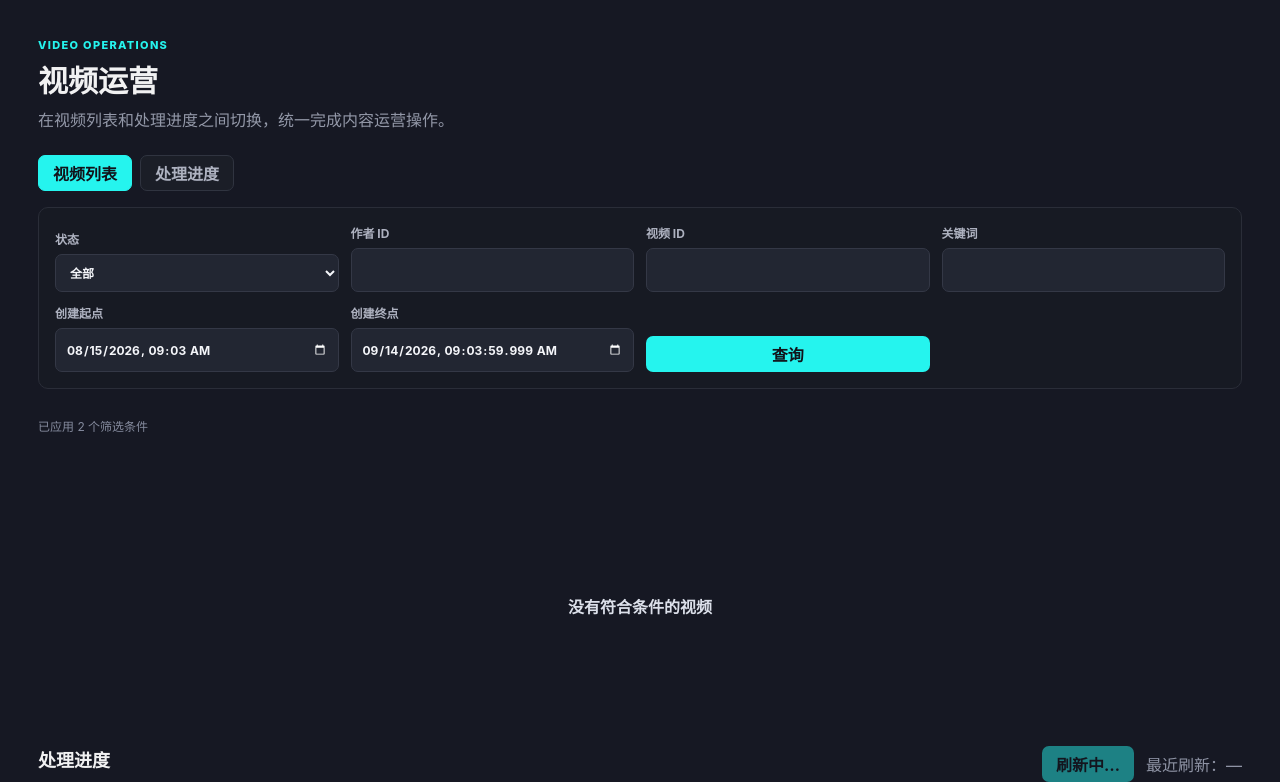
Test case: video operations processing view › renders plain-language processing labels, diagnostics, and single retry
The width and height of the screenshot is (1280, 782).
Click the tab "处理进度" at (187, 173), box [140,155,234,191]
(page scrolled)
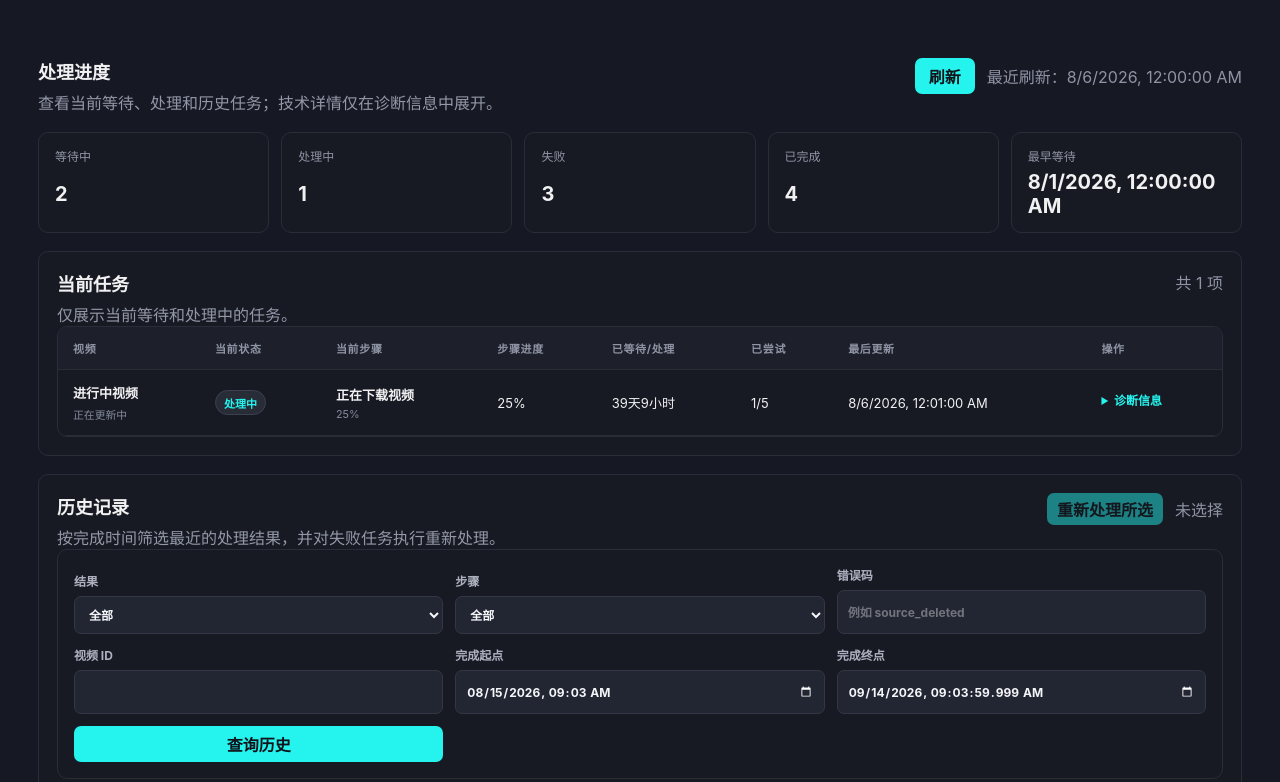
Expected: the element named "处理进度" shows "正在下载视频", [336,386,414,402]
Expected: the element showing "诊断信息" is shown
Expected: the heading "诊断信息" is shown
Click the heading "诊断信息" at (1138, 400), box [1114,393,1162,408]
(page scrolled)
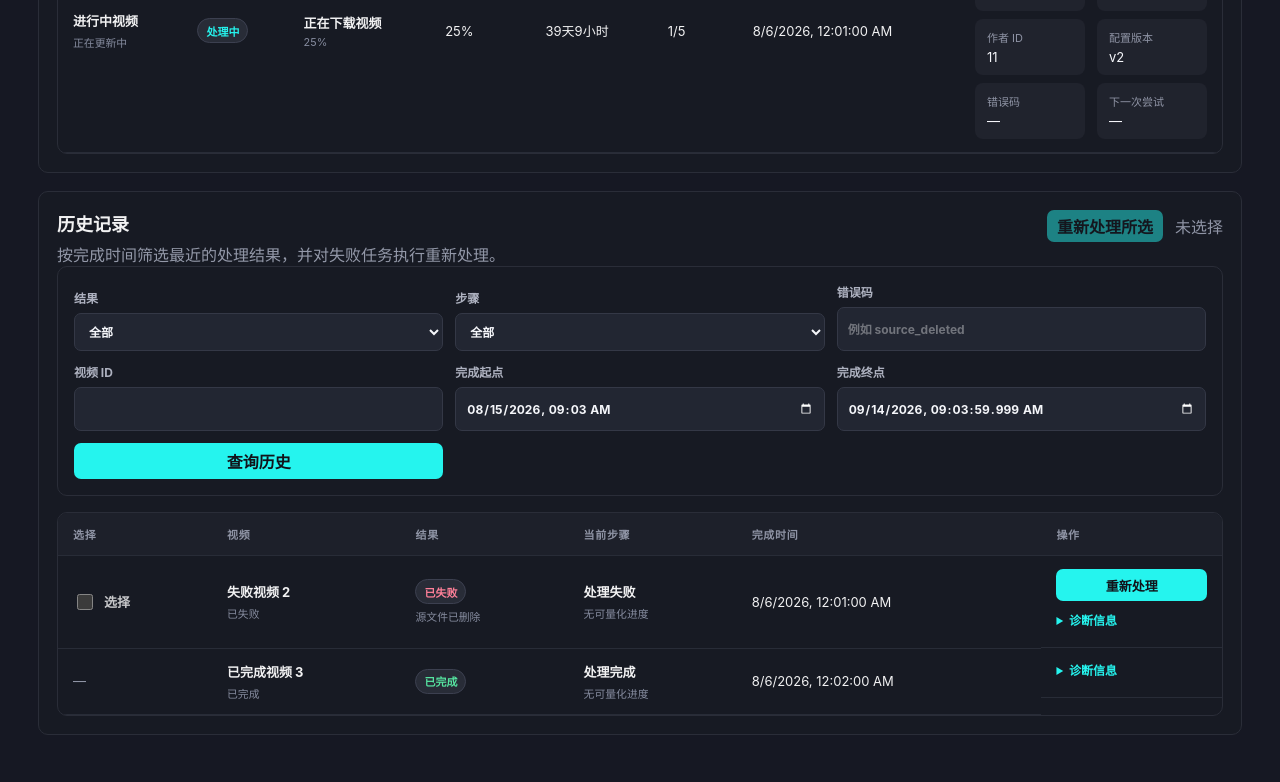
Click the button "重新处理" at (1132, 585), box [1056,569,1207,601]
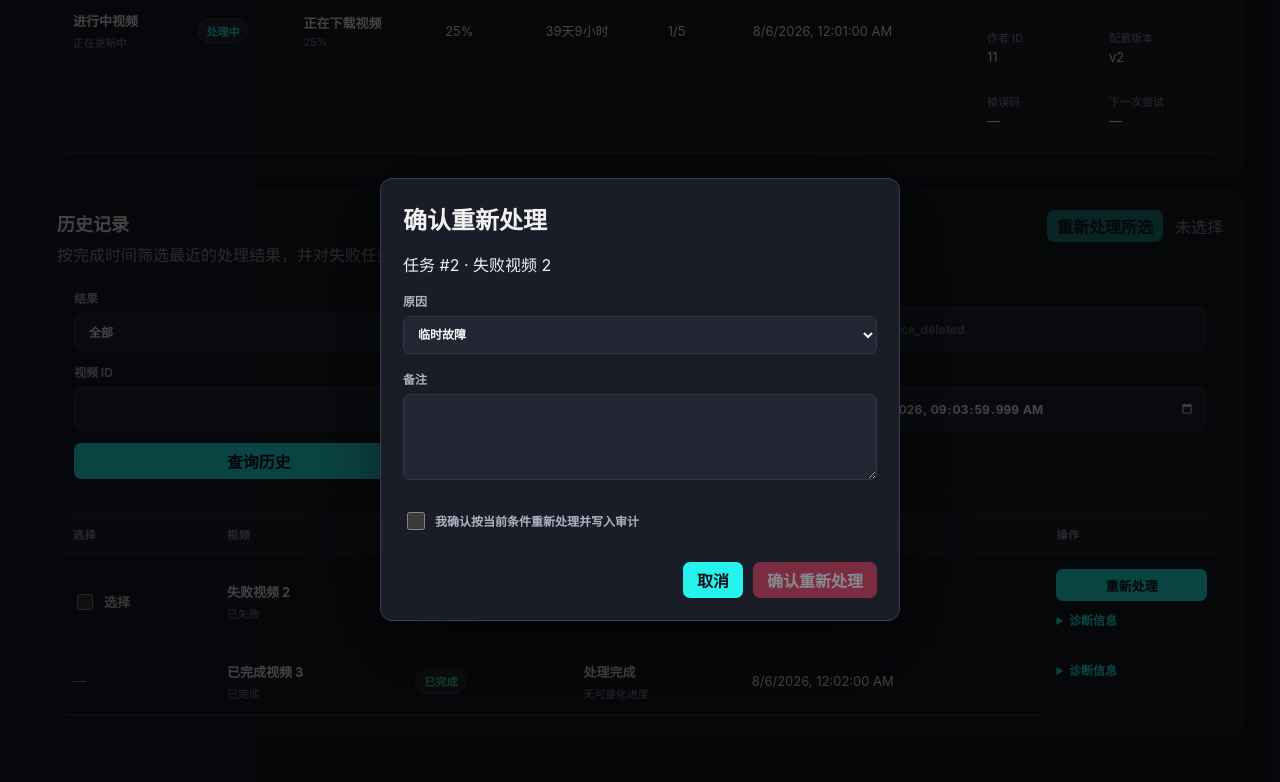
Expected: the element named "处理进度" shows "确认重新处理", [403,206,547,234]
Click the checkbox labelled "我确认按当前条件重新处理并写入审计" at (416, 520), box [407,498,425,542]
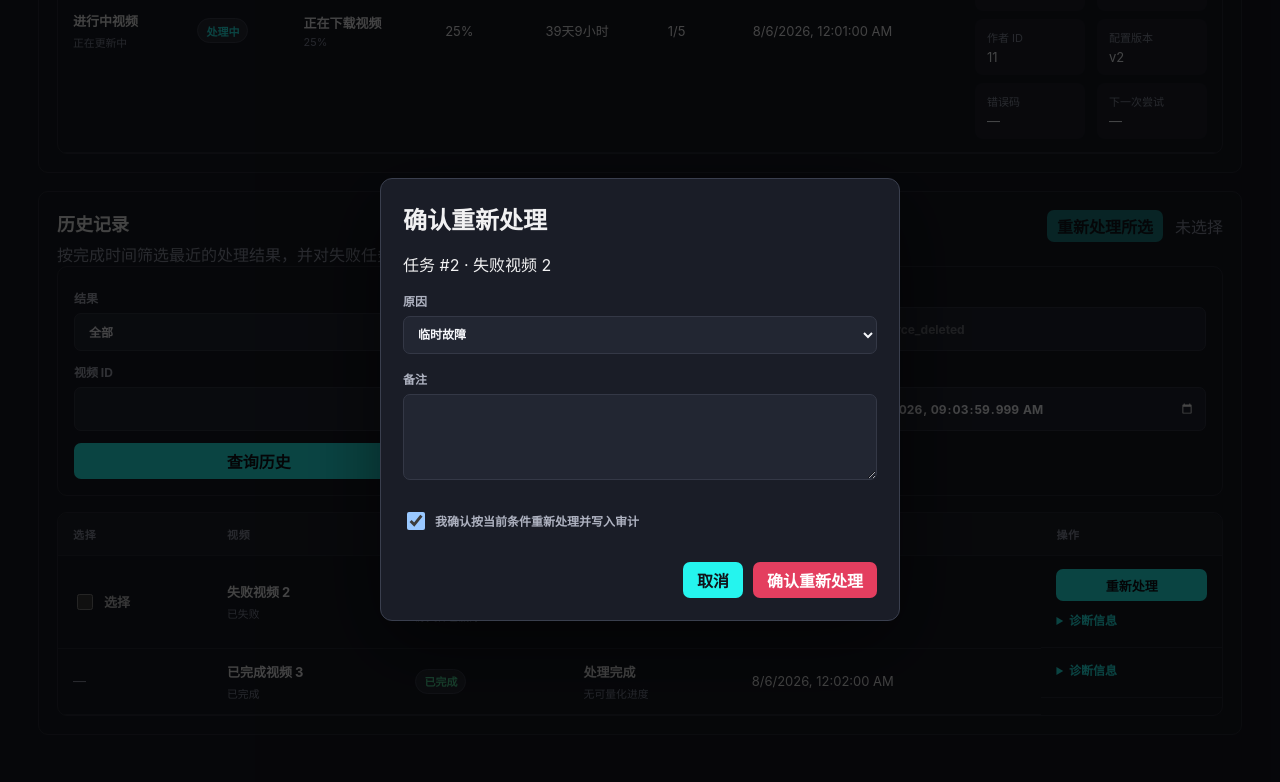
Click the button "确认重新处理" at (815, 580), box [753,562,877,598]
(page scrolled)
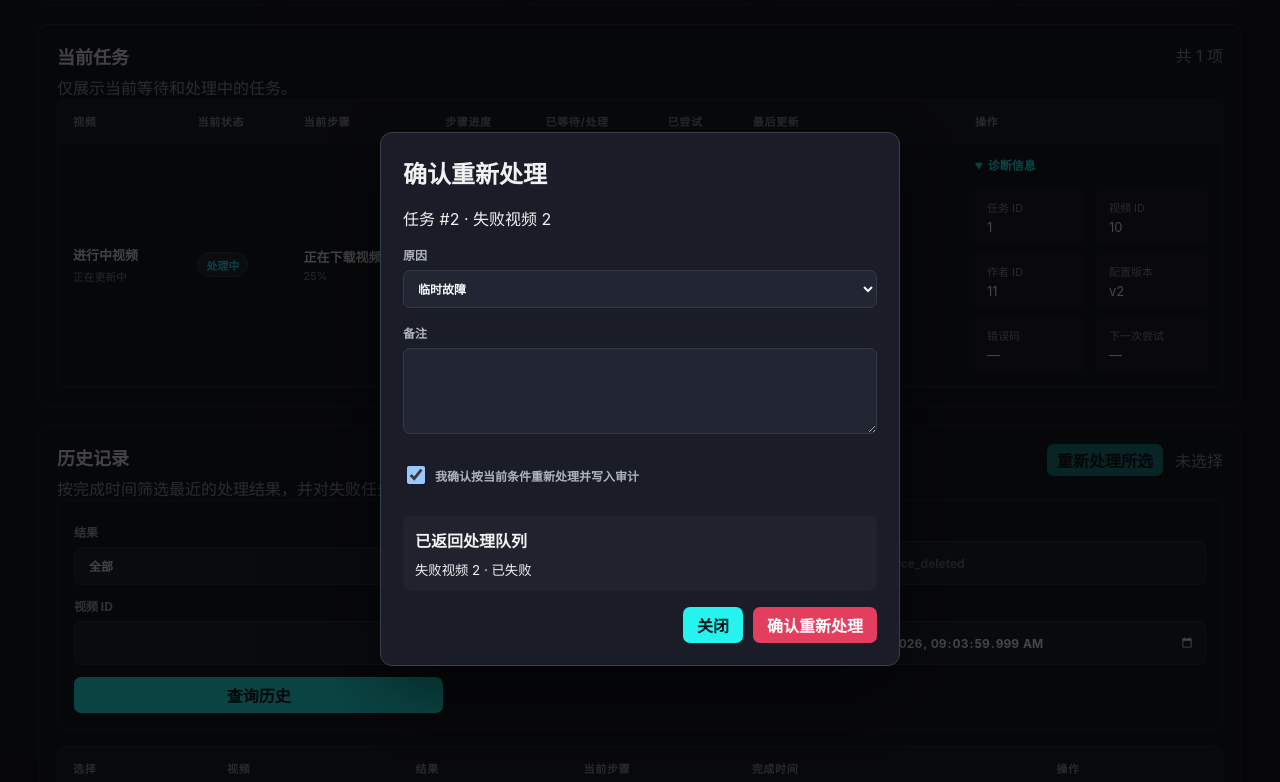
Expected: the element named "处理进度" shows "已返回处理队列", [415,531,527,551]
